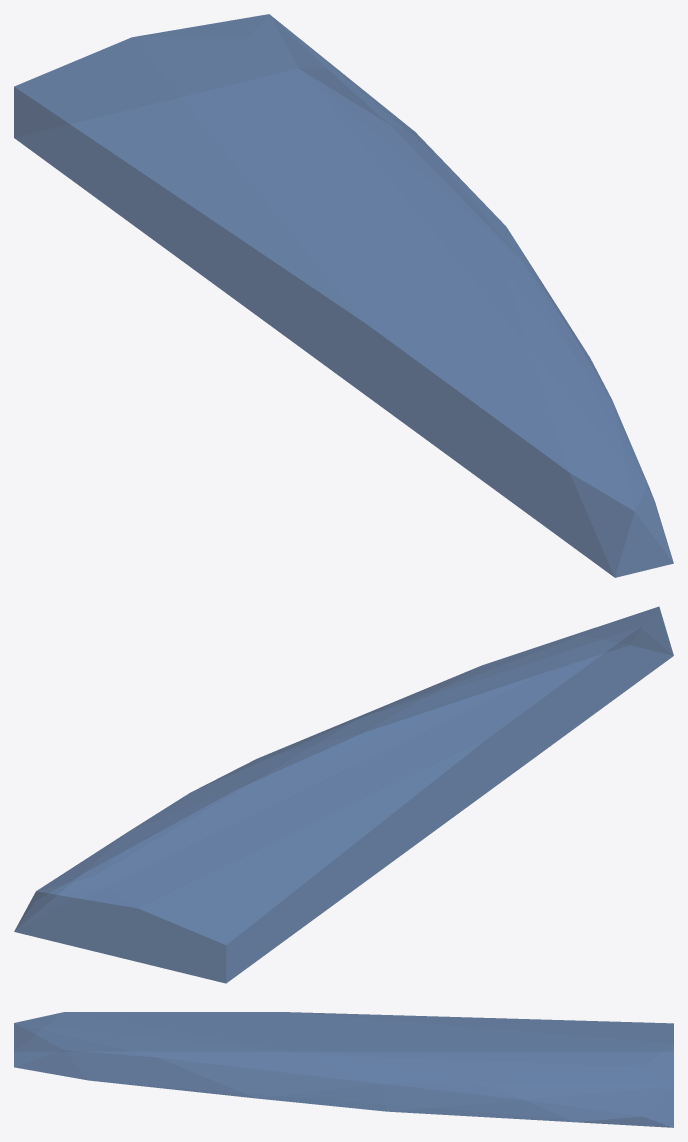
3 renders of one model, top to bottom at view 1: azimuth 30°, elevation 25°; view 2: azimuth 150°, elevation 25°; view 3: azimuth 270°, elevation 25°, orthographic. The views are drawn at different scales.
Parts seen in each view (by area): view 1: Shape_IndexedFaceSet.070_Shape_IndexedFaceSet.13142; view 2: Shape_IndexedFaceSet.070_Shape_IndexedFaceSet.13142; view 3: Shape_IndexedFaceSet.070_Shape_IndexedFaceSet.13142.
Boxes of the visible parts, x1,y1,x2,y2 form: Shape_IndexedFaceSet.070_Shape_IndexedFaceSet.13142: [14, 14, 673, 577]; Shape_IndexedFaceSet.070_Shape_IndexedFaceSet.13142: [14, 606, 673, 983]; Shape_IndexedFaceSet.070_Shape_IndexedFaceSet.13142: [14, 1012, 673, 1127].
Size of the model in its own units: 0.0658 by 0.0159 by 0.2404.
